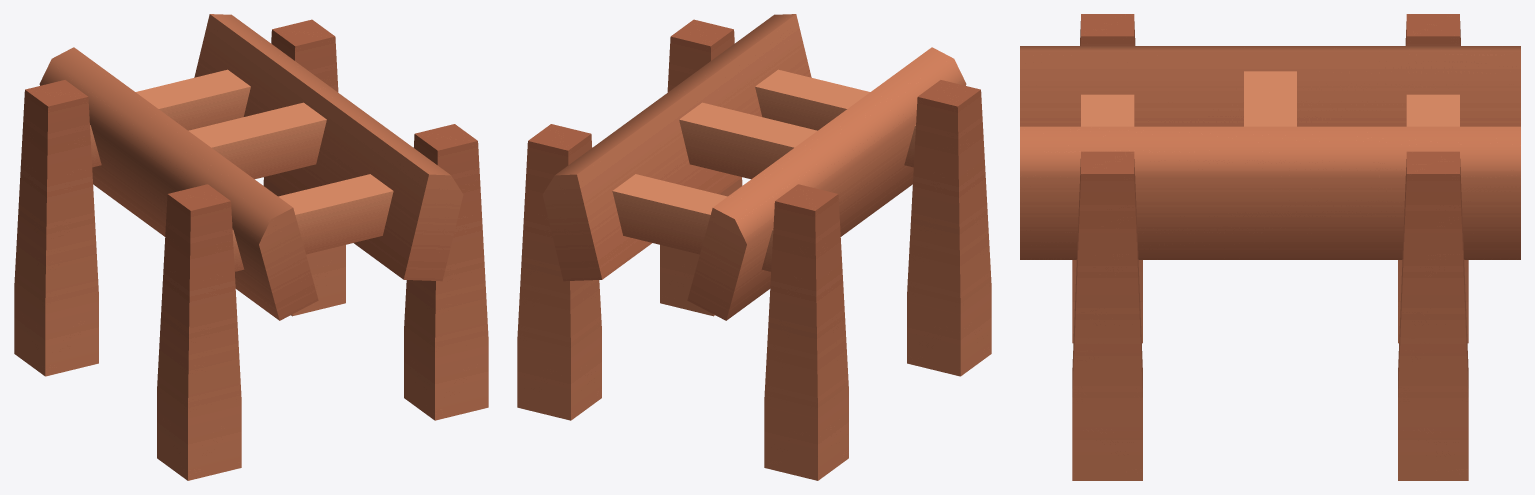
The model's file is workbench-grind_lev3.glb.
The picture shows the model from 3 angles, left to right: view 1: azimuth 30°, elevation 25°; view 2: azimuth 150°, elevation 25°; view 3: azimuth 270°, elevation 25°; orthographic projection. The views are drawn at different scales.
Parts seen in each view (by area): view 1: workbench-grind_lev3; view 2: workbench-grind_lev3; view 3: workbench-grind_lev3.
Part boxes in pixels (x1,y1,x2,y2): workbench-grind_lev3: [14, 14, 488, 480]; workbench-grind_lev3: [517, 14, 991, 480]; workbench-grind_lev3: [1020, 14, 1520, 480].
Bounding box in the file's own units: 2.23 × 1.92 × 2.82.
1 material, 1 textured.
